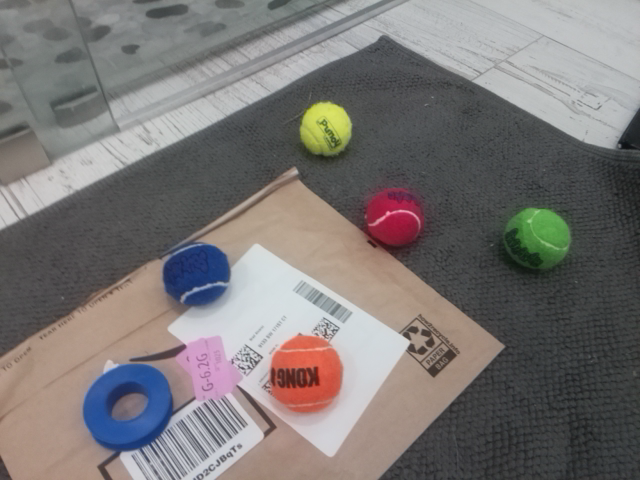blue-ball: (162, 240, 231, 306)
green-ball: (503, 206, 571, 272)
orange-ball: (269, 334, 344, 414)
red-ball: (364, 185, 426, 247)
yellow-ball: (299, 100, 353, 158)
